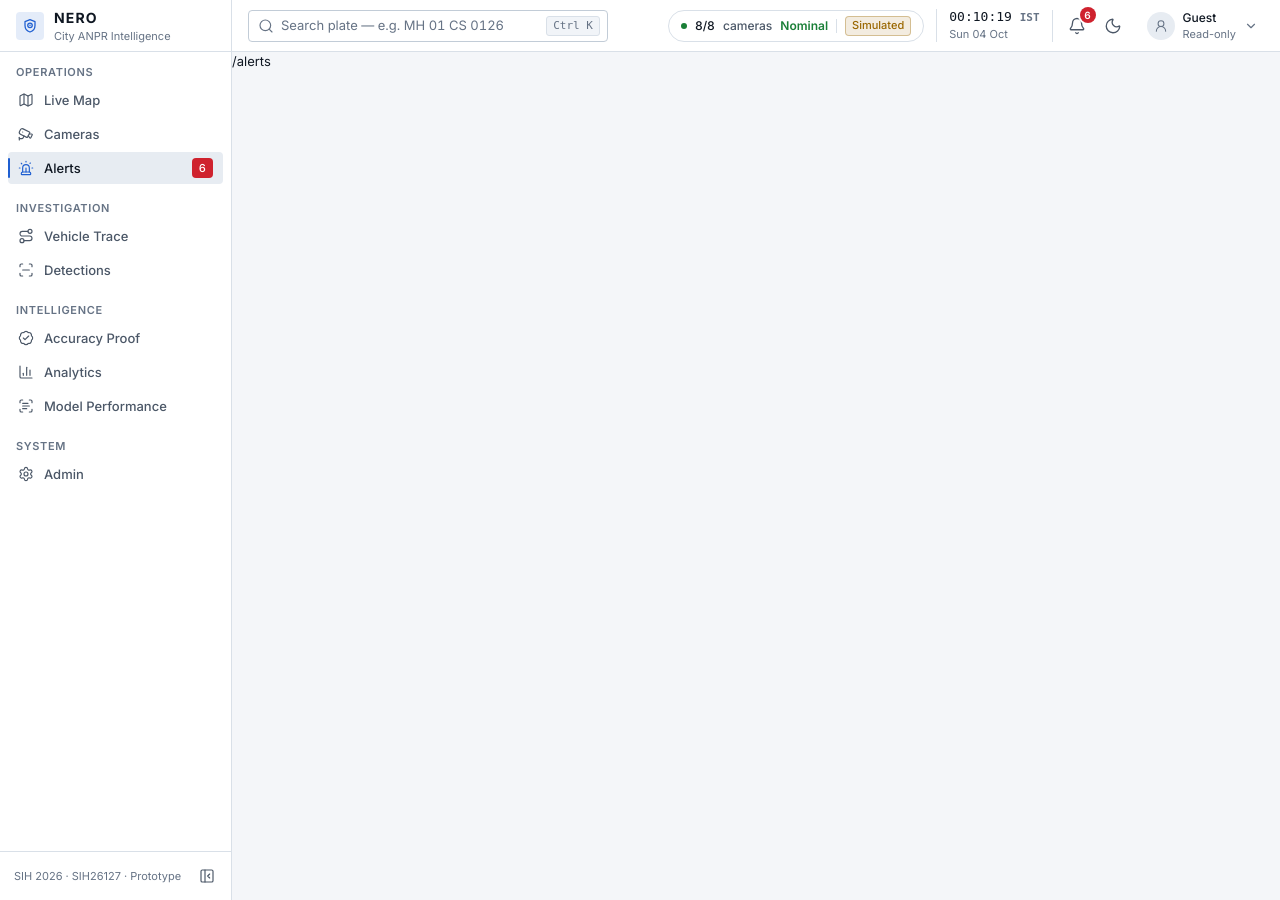
Test: DashboardLayout shell › user menu: guest can sign in; a signed-in user shows name, role and can sign out
The image size is (1280, 900).
Click the button with aria-label "user menu: not signed in" at point(1202, 26), box [1141,8,1264,44]
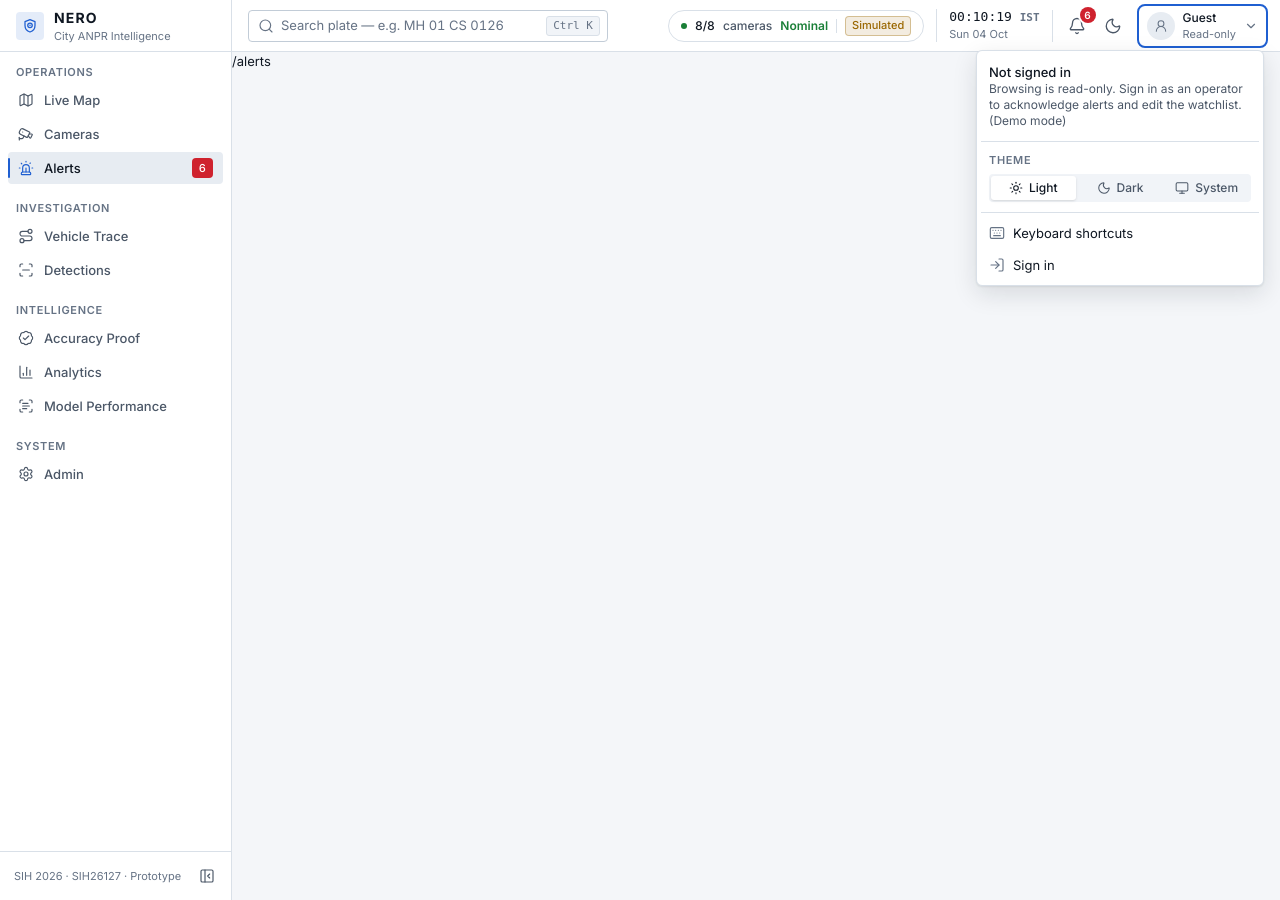
Click the button "Sign in" at point(1034, 264), box [981,248,1259,280]
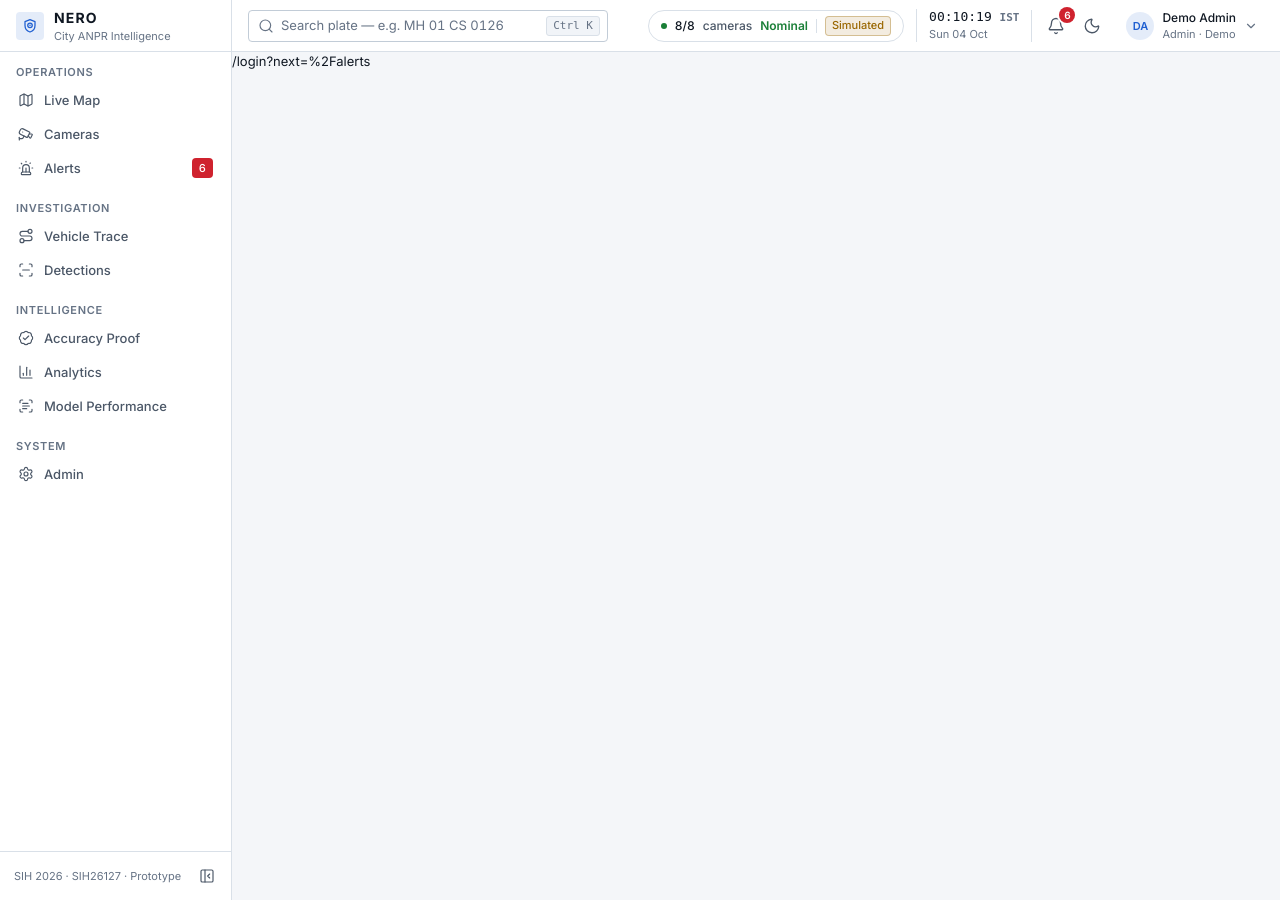
Check: the text with test id "where" reads "/login?next=%2Falerts", box [232,53,370,69]
Click the button with aria-label "user menu: demo admin, admin" at point(1192, 26), box [1120,8,1264,44]
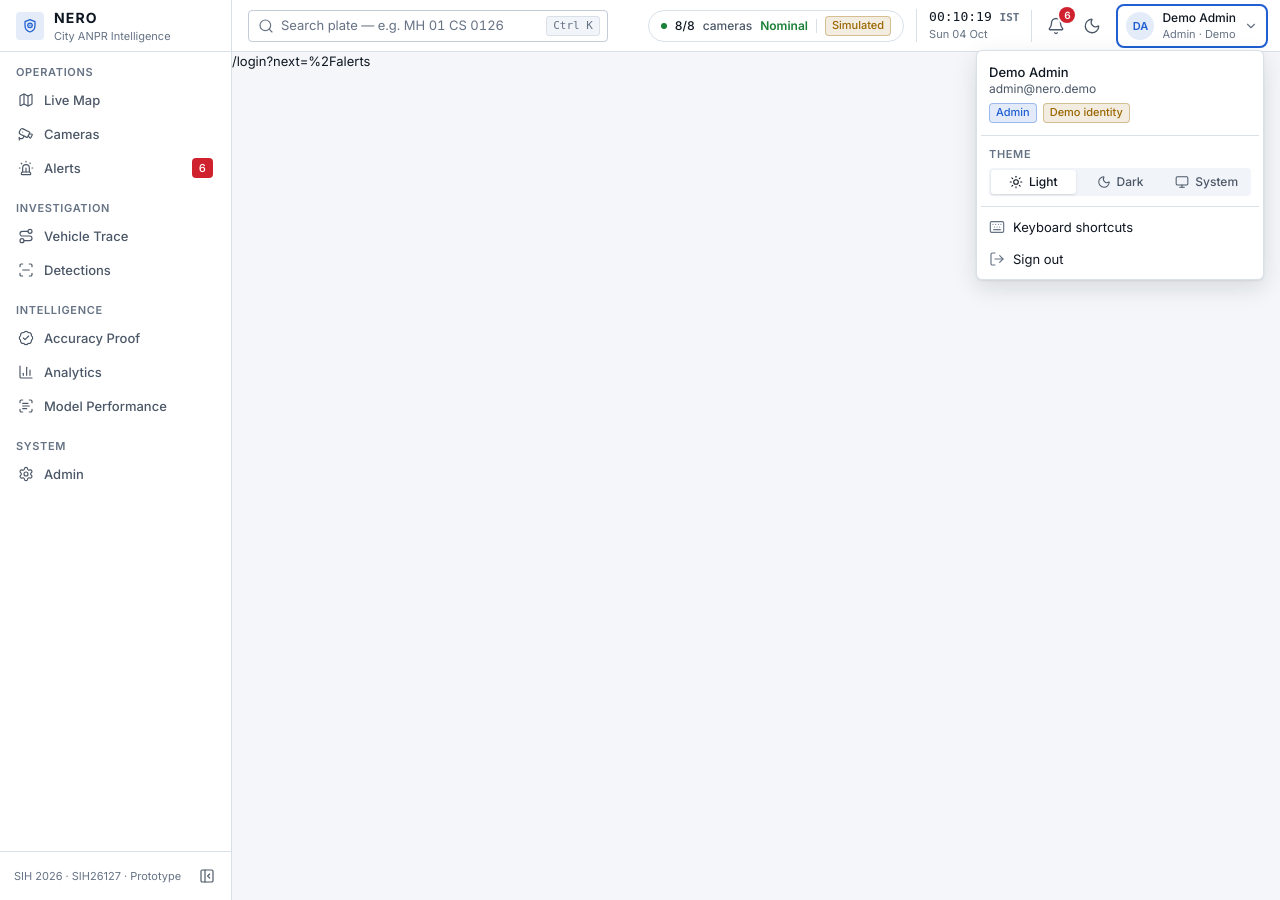
Check: the text "Demo identity" is shown, box [1043,102,1130,122]
Click the button "Sign out" at point(1038, 258), box [981,242,1259,274]
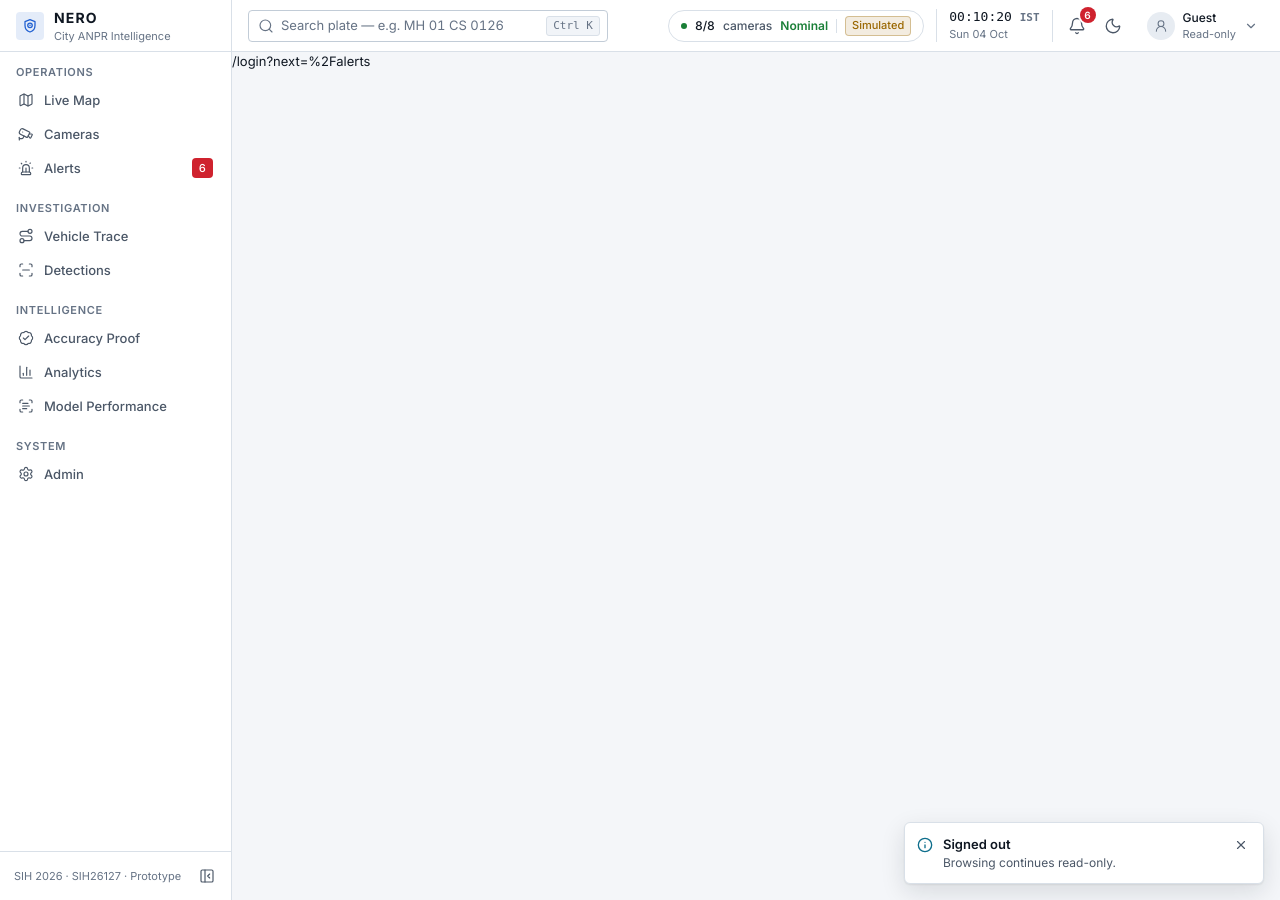
Check: the button with aria-label "user menu: not signed in" is shown, box [1141,8,1264,44]
